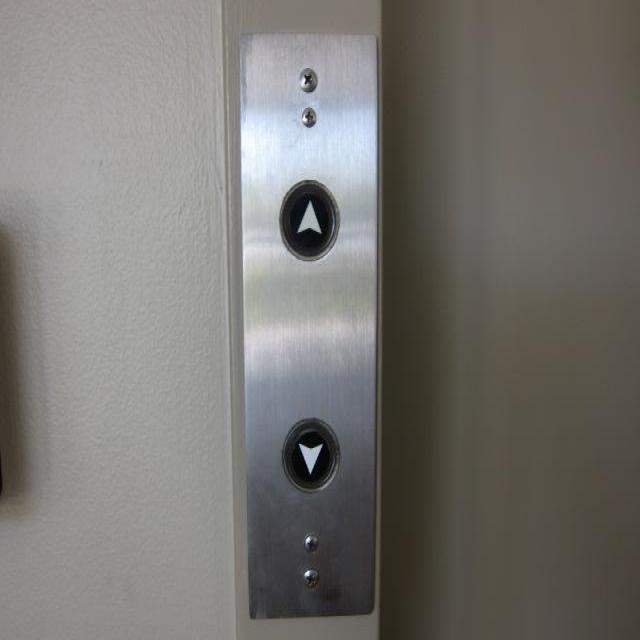down: (278, 412, 340, 496)
up: (276, 175, 340, 265)
